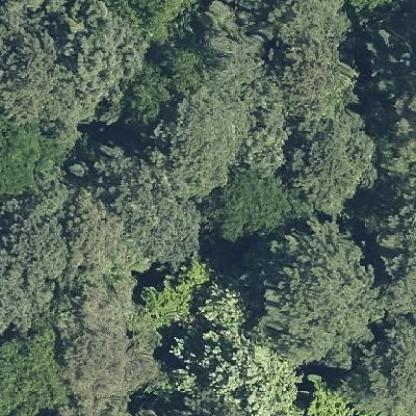tree-top: (244, 227, 380, 371), (186, 281, 298, 411), (285, 112, 376, 214), (61, 322, 155, 400), (200, 166, 296, 242), (352, 312, 412, 415), (0, 322, 64, 412), (0, 115, 61, 194), (296, 370, 356, 415), (129, 61, 168, 123)
